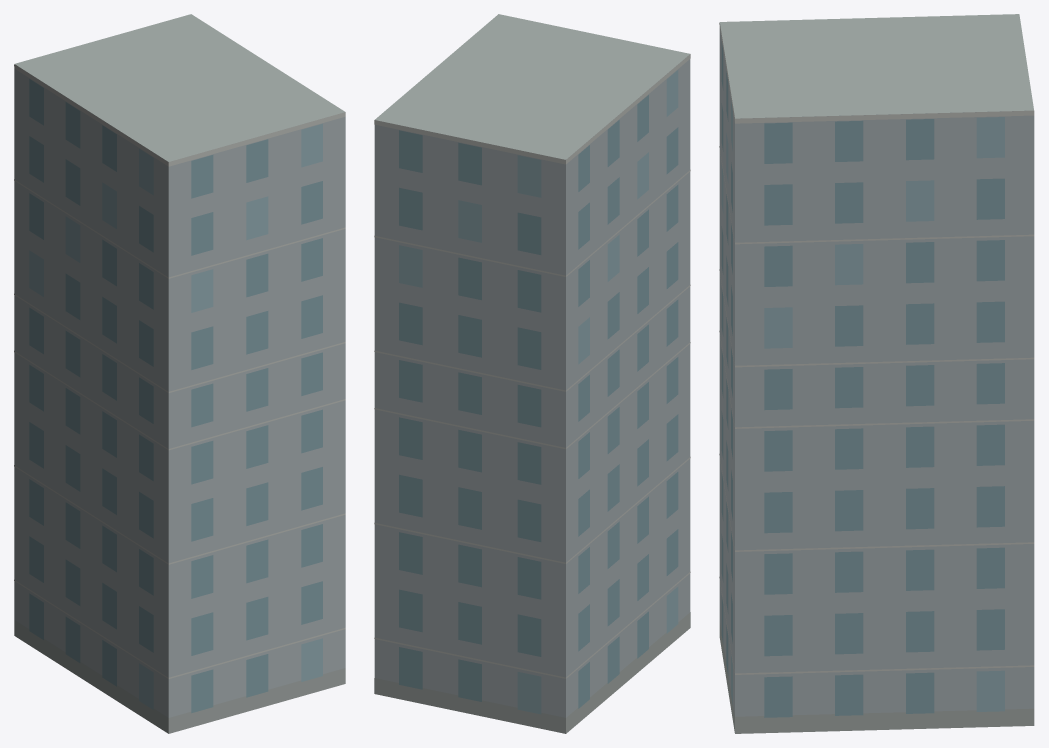
Rendered from survey-upis-32958667.glb.
3 views of the same model, side by side, from view 1: azimuth 30°, elevation 25°; view 2: azimuth 150°, elevation 25°; view 3: azimuth 270°, elevation 25° (orthographic). The views are drawn at different scales.
Parts seen in each view (by area): view 1: survey-upis-32958667.tmp; view 2: survey-upis-32958667.tmp; view 3: survey-upis-32958667.tmp.
Part boxes in pixels (x1,y1,x2,y2): survey-upis-32958667.tmp: (14, 14, 345, 733); survey-upis-32958667.tmp: (374, 14, 690, 733); survey-upis-32958667.tmp: (719, 14, 1034, 733).
Bounding box in the file's own units: 10.94 × 29.95 × 13.9.
